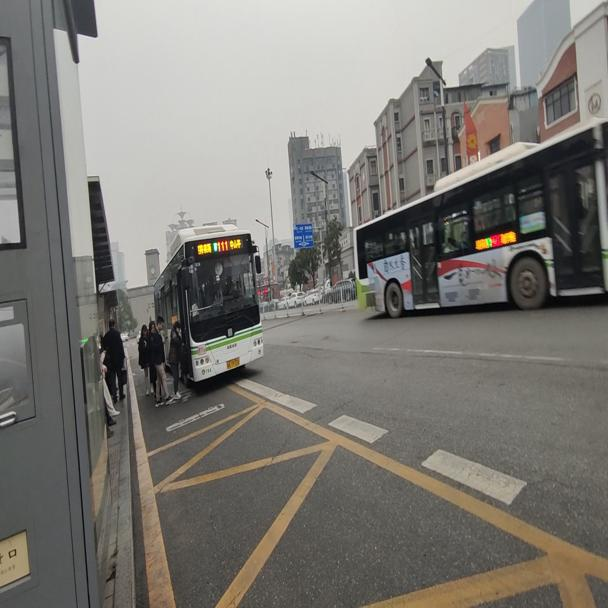bus: (352, 118, 605, 315), (152, 220, 263, 382)
screen: (215, 236, 228, 254)
